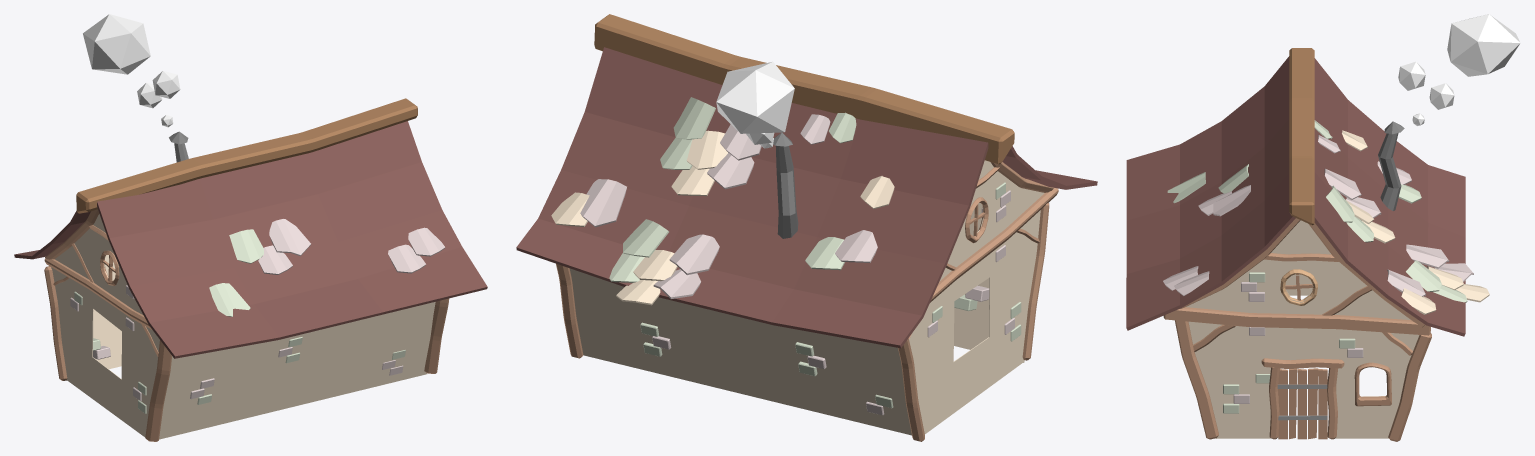
The model's file is hut_model.fbx.
The picture shows the model from 3 angles, left to right: view 1: azimuth 30°, elevation 25°; view 2: azimuth 150°, elevation 25°; view 3: azimuth 270°, elevation 25°; orthographic projection. The views are drawn at different scales.
Visible parts, largest first — view 1: Cube.121; view 2: Cube.121; view 3: Cube.121.
Boxes of the visible parts, x1,y1,x2,y2 form: Cube.121: (14, 14, 487, 441); Cube.121: (516, 14, 1097, 441); Cube.121: (1126, 14, 1520, 441).
Size of the model in its own units: 117 by 105 by 114.
